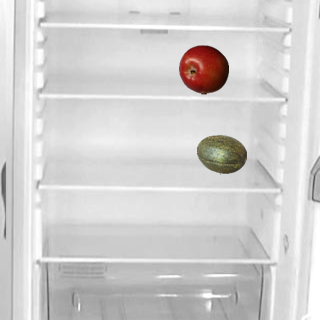Apple Braeburn: (178, 44, 228, 94)
Melon Piel de Sapo: (196, 129, 246, 179)
